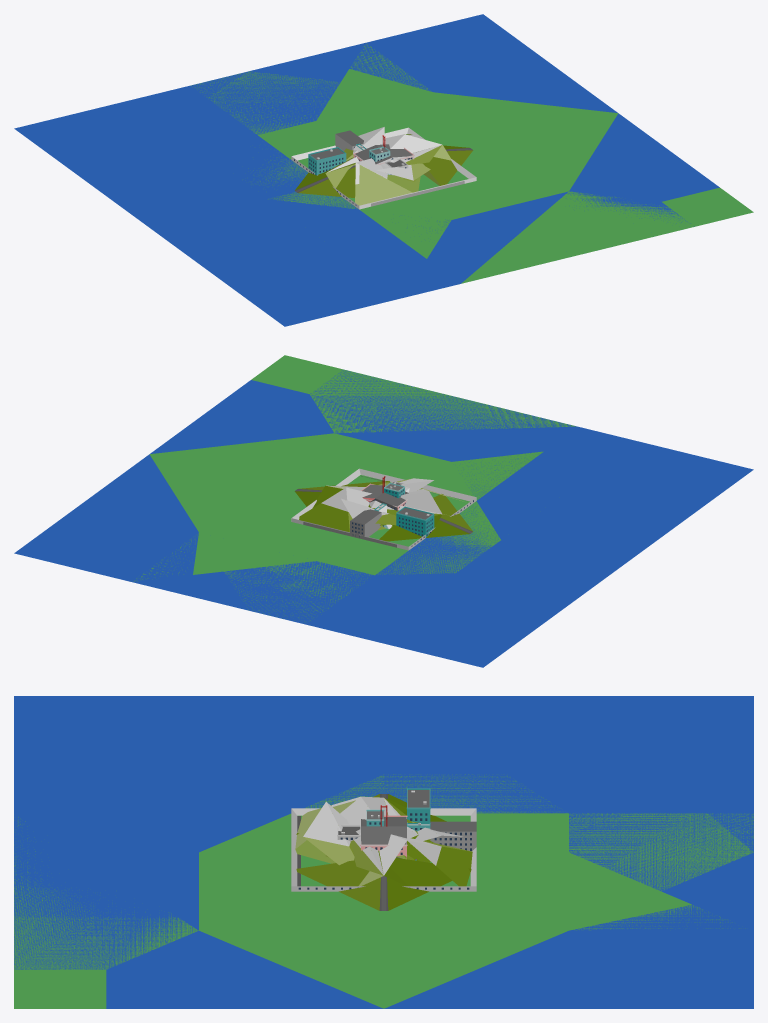
The picture shows the model from 3 angles, top to bottom: view 1: azimuth 30°, elevation 25°; view 2: azimuth 150°, elevation 25°; view 3: azimuth 270°, elevation 25°; orthographic projection. The views are drawn at different scales.
Visible parts, largest first — view 1: ce_059_lod0, ce_058_lod0, ce_001_lod0, ce_060_lod0, ce_002_lod0, ce_061_lod0, ce_003_lod0, ce_062_lod0_s1v0, ce_087_lod0, ce_070_lod0, ce_029_lod0, ce_057_lod0 (+1 smaller); view 2: ce_059_lod0, ce_058_lod0, ce_001_lod0, ce_060_lod0, ce_002_lod0, ce_057_lod0, ce_061_lod0, ce_062_lod0_s1v0, ce_090_lod0, ce_087_lod0, ce_029_lod0, ce_003_lod0 (+1 smaller); view 3: ce_059_lod0, ce_001_lod0, ce_058_lod0, ce_060_lod0, ce_002_lod0, ce_061_lod0, ce_057_lod0, ce_070_lod0, ce_090_lod0, ce_062_lod0_s1v0, ce_029_lod0, ce_003_lod0 (+6 smaller).
Boxes of the visible parts, bbox=[...] form: ce_059_lod0: bbox=[17, 113, 719, 326]; ce_058_lod0: bbox=[258, 44, 753, 283]; ce_001_lod0: bbox=[14, 14, 583, 227]; ce_060_lod0: bbox=[183, 88, 617, 298]; ce_002_lod0: bbox=[191, 57, 584, 134]; ce_061_lod0: bbox=[191, 71, 356, 208]; ce_003_lod0: bbox=[318, 158, 420, 205]; ce_062_lod0_s1v0: bbox=[308, 130, 390, 175]; ce_087_lod0: bbox=[294, 165, 355, 197]; ce_070_lod0: bbox=[382, 135, 472, 185]; ce_029_lod0: bbox=[291, 127, 476, 209]; ce_057_lod0: bbox=[14, 71, 247, 152]; ce_059_lod0: bbox=[150, 370, 753, 666]; ce_058_lod0: bbox=[134, 355, 575, 581]; ce_001_lod0: bbox=[14, 479, 617, 667]; ce_060_lod0: bbox=[116, 441, 685, 575]; ce_002_lod0: bbox=[117, 479, 374, 624]; ce_057_lod0: bbox=[254, 594, 582, 666]; ce_061_lod0: bbox=[224, 501, 500, 621]; ce_062_lod0_s1v0: bbox=[350, 484, 434, 537]; ce_090_lod0: bbox=[299, 485, 392, 532]; ce_087_lod0: bbox=[379, 494, 472, 541]; ce_029_lod0: bbox=[291, 468, 476, 550]; ce_003_lod0: bbox=[392, 488, 463, 527]; ce_059_lod0: bbox=[14, 696, 750, 1008]; ce_001_lod0: bbox=[384, 696, 753, 1008]; ce_058_lod0: bbox=[14, 813, 745, 1008]; ce_060_lod0: bbox=[14, 696, 565, 1008]; ce_002_lod0: bbox=[446, 813, 753, 1008]; ce_061_lod0: bbox=[306, 774, 753, 891]; ce_057_lod0: bbox=[478, 696, 753, 851]; ce_070_lod0: bbox=[296, 805, 471, 910]; ce_090_lod0: bbox=[358, 834, 472, 886]; ce_062_lod0_s1v0: bbox=[366, 790, 476, 858]; ce_029_lod0: bbox=[291, 808, 476, 891]; ce_003_lod0: bbox=[295, 796, 417, 863].
Size of what is drawn, in the model's own units: 4096 by 288 by 4096.
